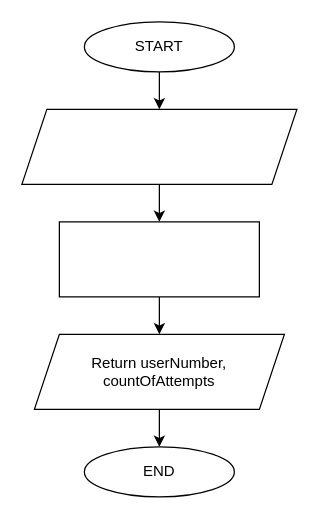
The diagram is 319 pixels wide and 519 high, and some of its shapes have lost their labels. The shapes that lost their labels are listed below. From the top down, each one's centre as x and y in pixels, then its label:
At point (159, 146): "countOfAttempts,".
At point (158, 259): "userNumber= requestNumber(message)".
